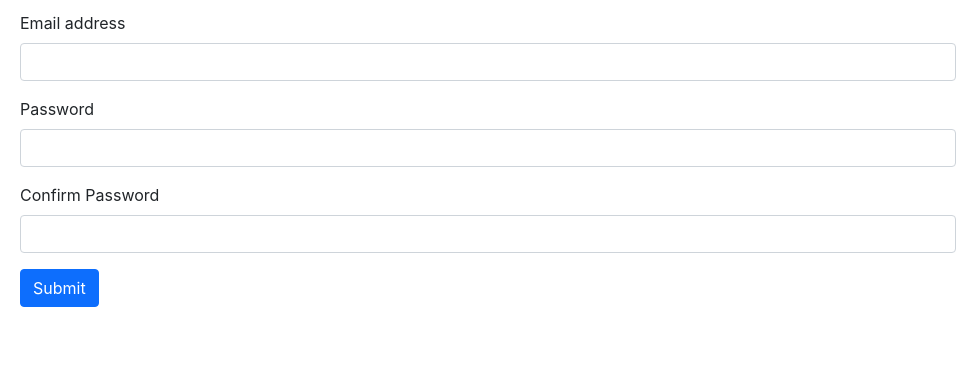
App component › Error handling › Should show the confirm password error if confirmed value does not matches with previous one
The width and height of the screenshot is (977, 368).
In the field labelled "Email address": {"x": 488, "y": 62} [20,43,956,81], type "test@gmail.com"
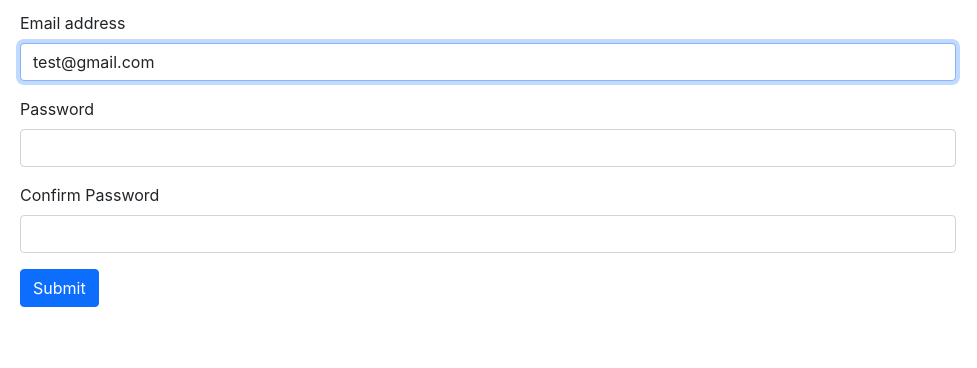
Check: the text "the password you entered should match the previous one" is not shown
In the password field labelled "Password": {"x": 488, "y": 148} [20,129,956,167], type "12345678"
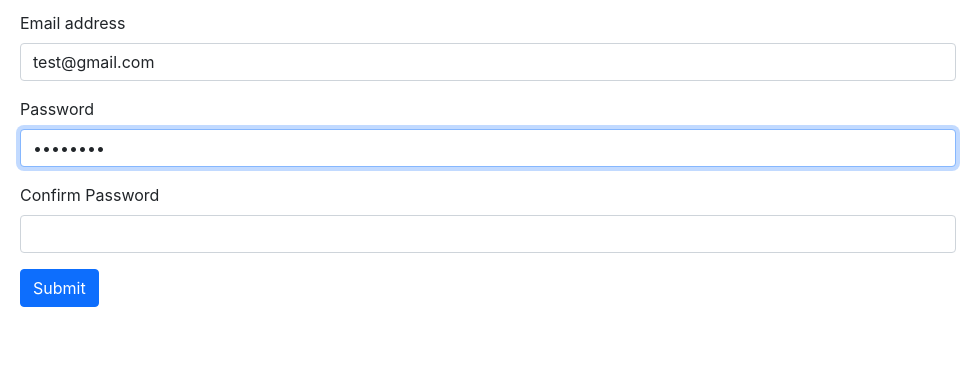
Check: the text "the password you entered should match the previous one" is not shown
In the password field labelled "Confirm Password": {"x": 488, "y": 234} [20,215,956,253], type "123"
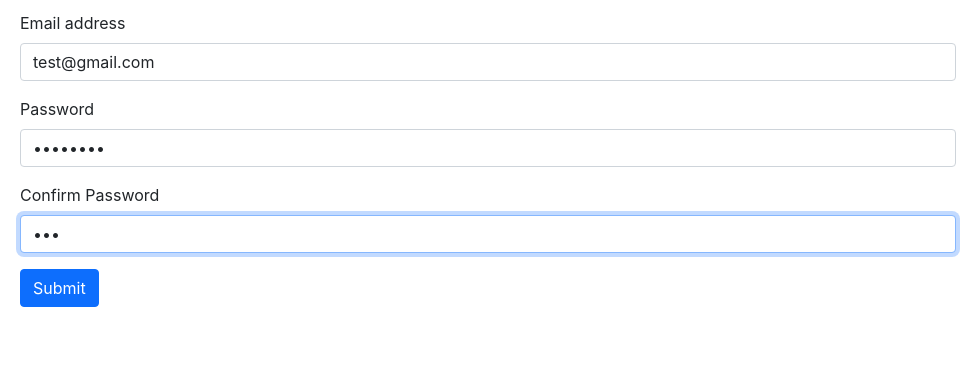
Click the button "Submit": {"x": 59, "y": 288} [20,269,99,307]
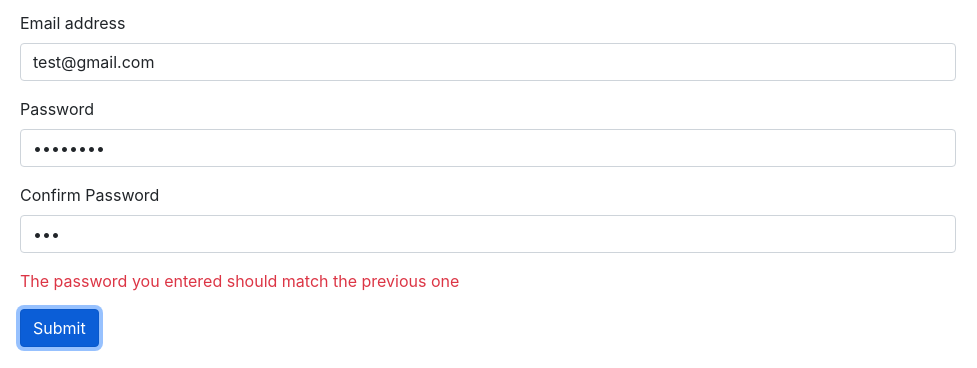
Check: the text "The password you entered should match the previous one" is shown, box [20,271,459,291]
